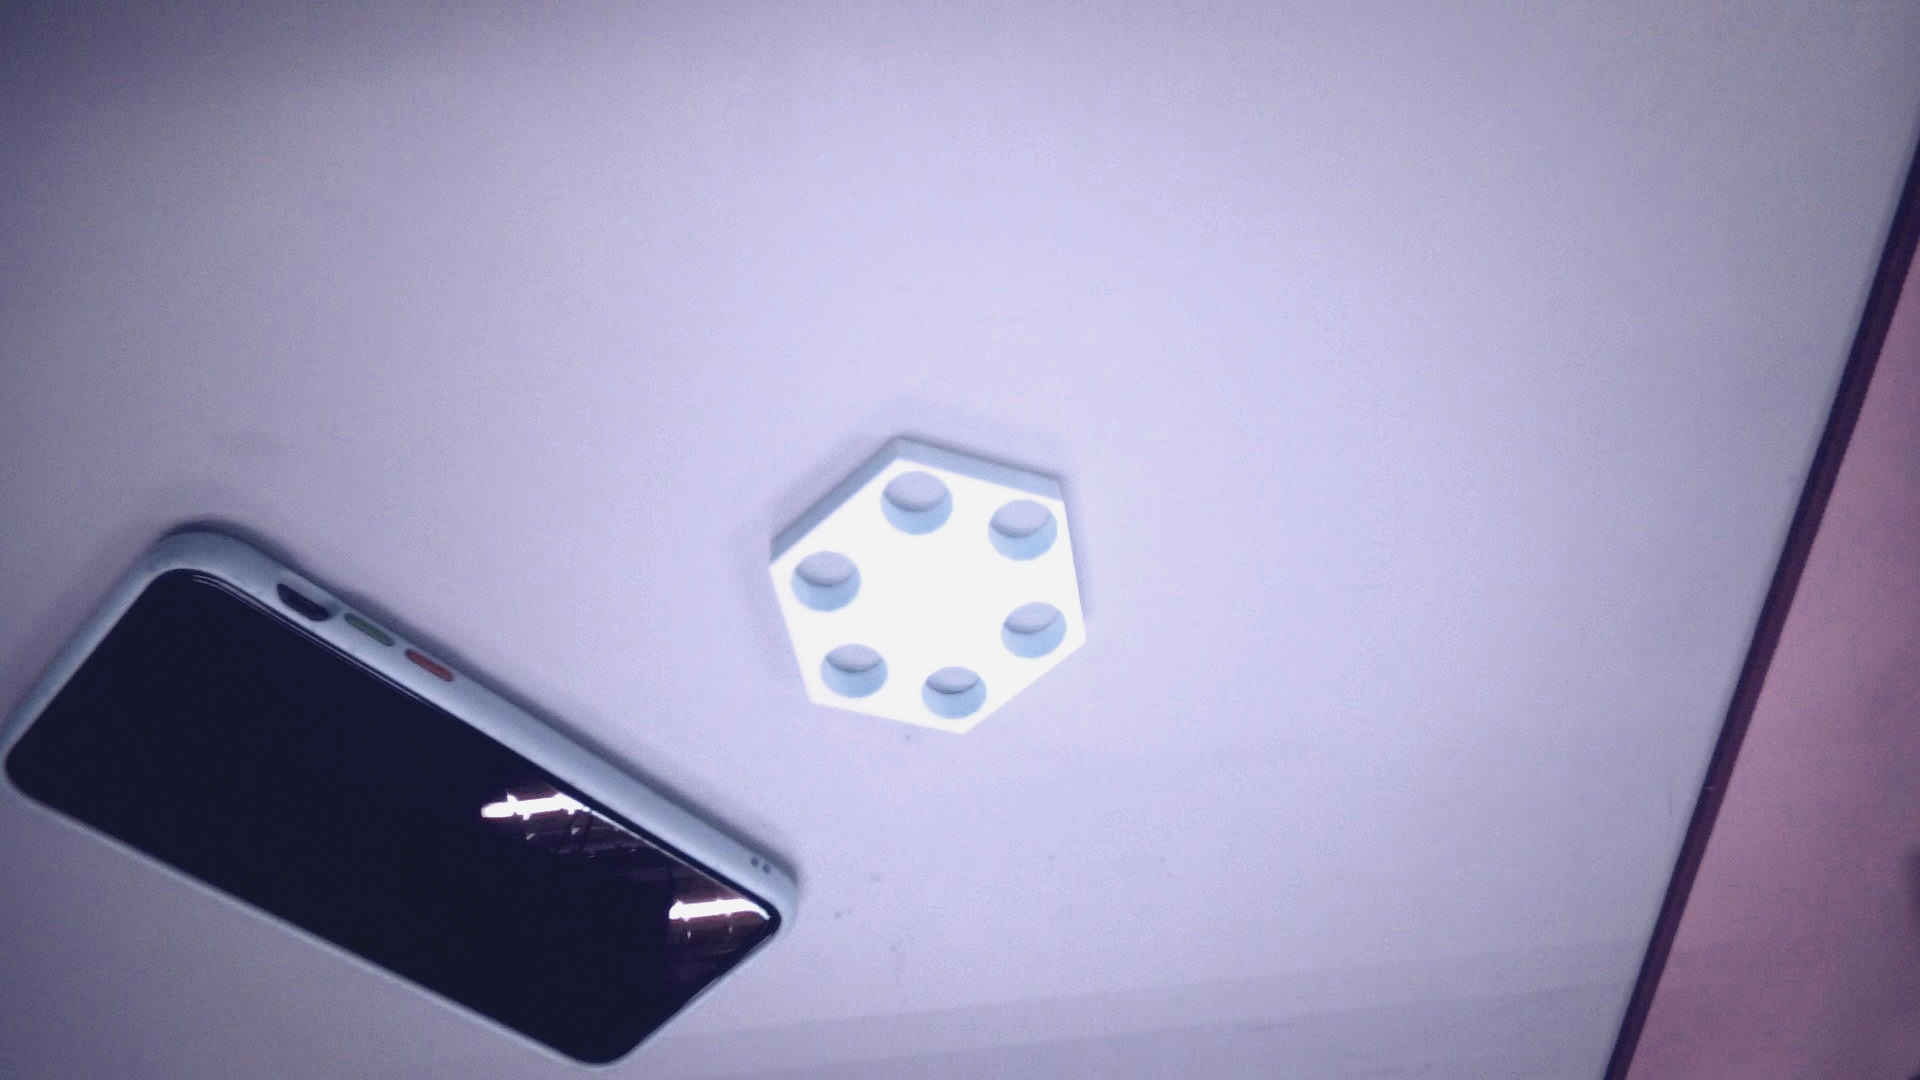hole: (978, 502, 1058, 564), (789, 550, 861, 612), (994, 603, 1067, 663), (818, 644, 891, 703), (884, 473, 953, 535), (926, 666, 982, 725)
obj: (764, 435, 1095, 749)
